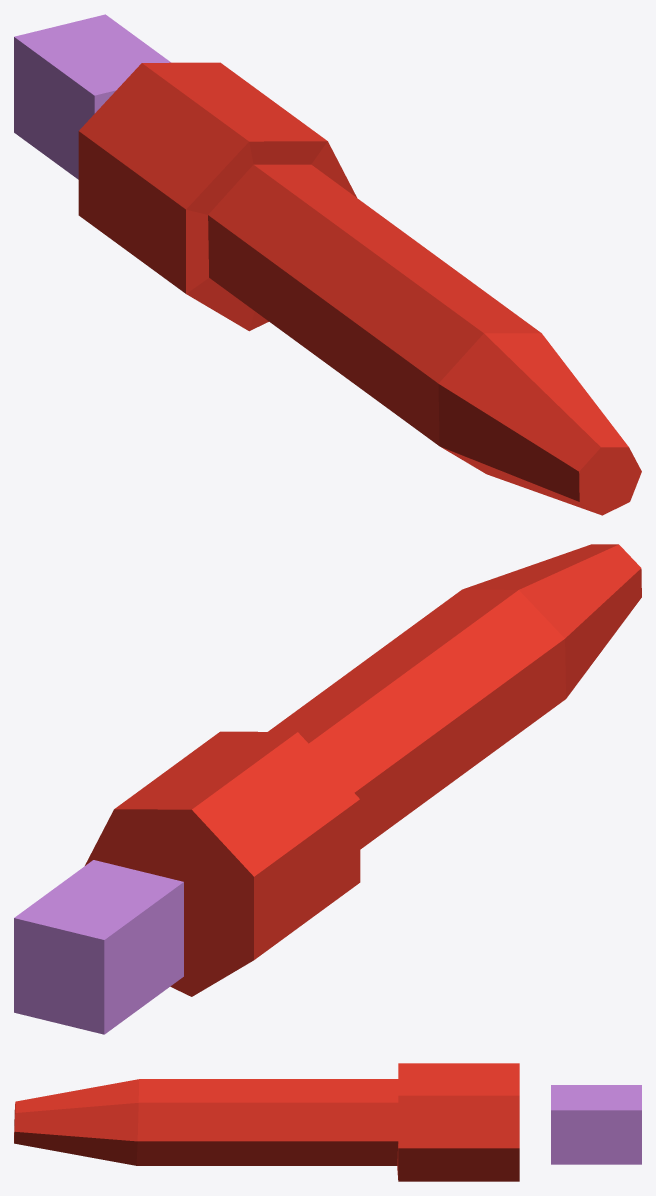
Rendered from missile.glb.
The picture shows the model from 3 angles, top to bottom: view 1: azimuth 30°, elevation 25°; view 2: azimuth 150°, elevation 25°; view 3: azimuth 270°, elevation 25°; orthographic projection. The views are drawn at different scales.
Visible parts, largest first — view 1: Cylinder.008, Cube; view 2: Cylinder.008, Cube; view 3: Cylinder.008, Cube.
Part boxes in pixels (<box>): Cylinder.008: <box>78,62,641,515</box>; Cube: <box>14,14,170,179</box>; Cylinder.008: <box>85,544,641,996</box>; Cube: <box>14,860,183,1034</box>; Cylinder.008: <box>14,1063,519,1181</box>; Cube: <box>551,1085,641,1164</box>.
Size of the model in its own units: 1.9 by 1.95 by 10.34.
